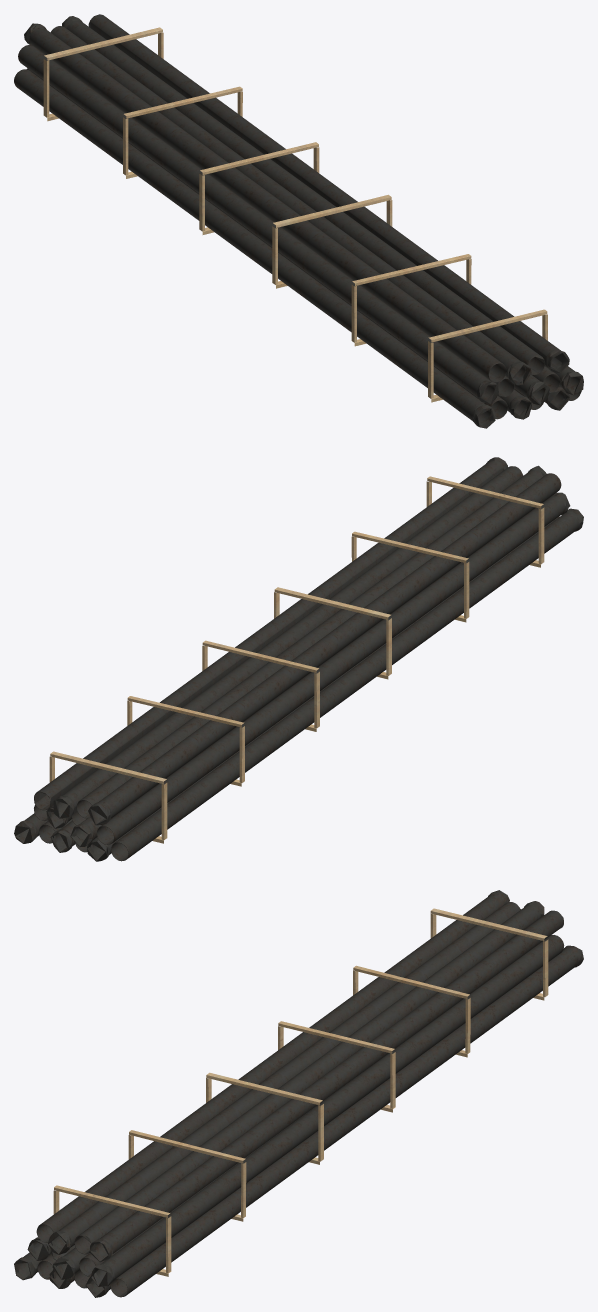
Rendered from forest_pipe_bundle.glb.
3 renders of one model, top to bottom at view 1: azimuth 30°, elevation 25°; view 2: azimuth 150°, elevation 25°; view 3: azimuth 330°, elevation 25°, orthographic.
Parts seen in each view (by area): view 1: forest_pipe_bundle; view 2: forest_pipe_bundle; view 3: forest_pipe_bundle.
Boxes of the visible parts, x1,y1,x2,y2 form: forest_pipe_bundle: (14,14,583,428); forest_pipe_bundle: (14,457,583,861); forest_pipe_bundle: (14,890,583,1297).
Size of the model in its own units: 0.9839 by 0.509 by 7.02.
3 materials, 3 textured.
